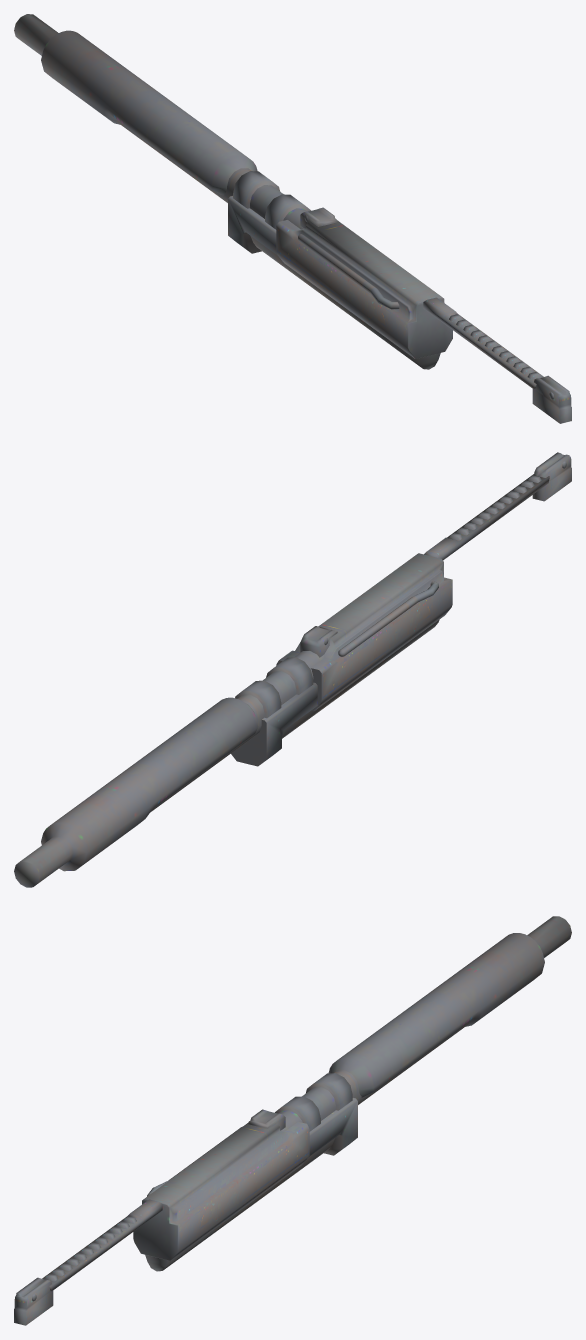
Rendered from barrel1.obj.
3 views of the same model, one above another, from view 1: azimuth 30°, elevation 25°; view 2: azimuth 150°, elevation 25°; view 3: azimuth 330°, elevation 25° (orthographic).
Parts seen in each view (by area): view 1: barrel1; view 2: barrel1; view 3: barrel1.
Boxes of the visible parts, x1,y1,x2,y2 form: barrel1: (14,14,571,423); barrel1: (14,452,571,887); barrel1: (14,916,571,1325).
Bounding box in the file's own units: 6.47 × 9.66 × 120.
